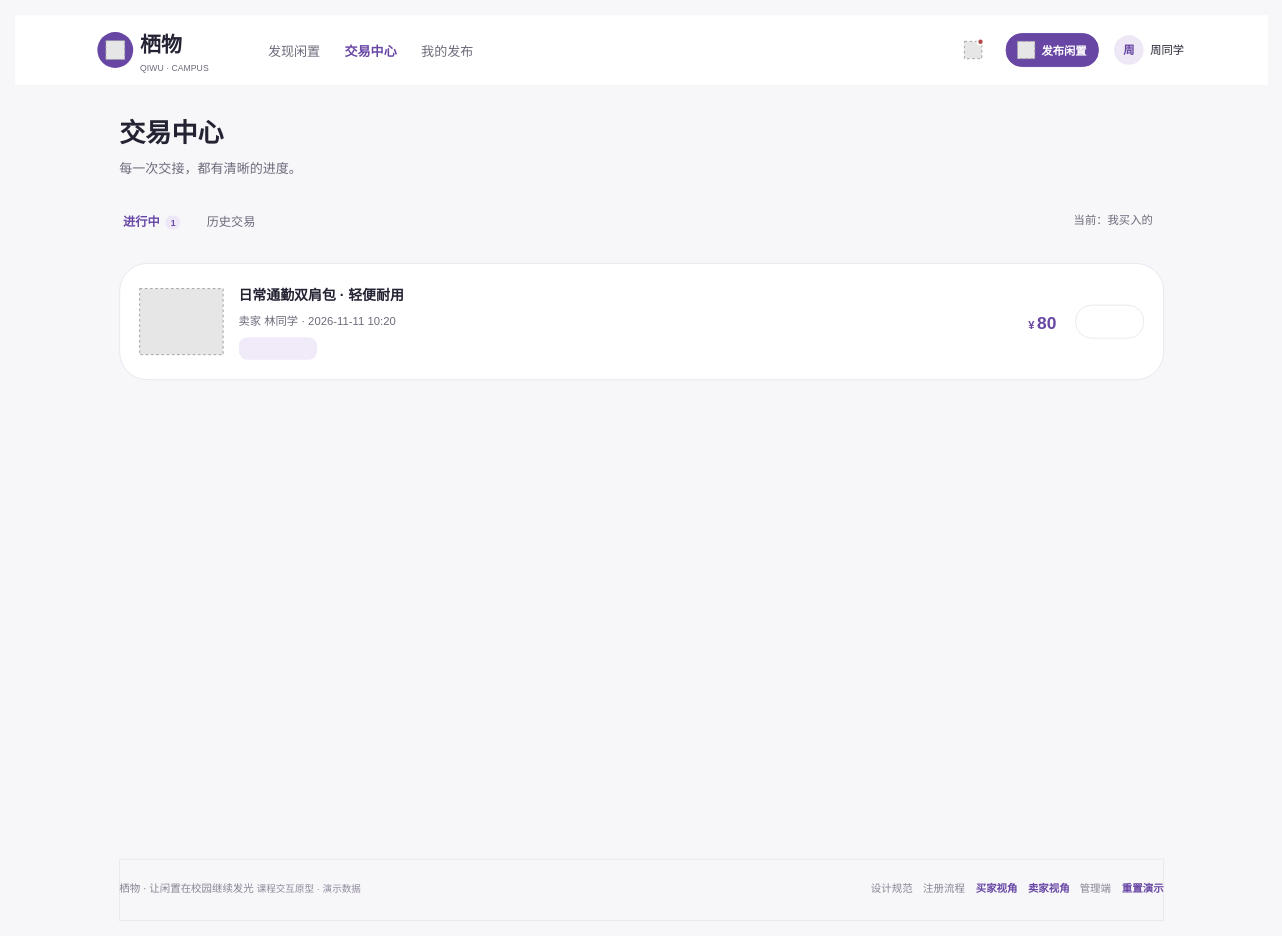
Some shapes in this 1282 by 936 pixel diagram are drawn without their labels. Grey dashed boxes stand in for pictures. Each missing label, with the box of its shape:
已确认待交接: (238, 337, 317, 359)
查看进度: (1075, 304, 1144, 338)
